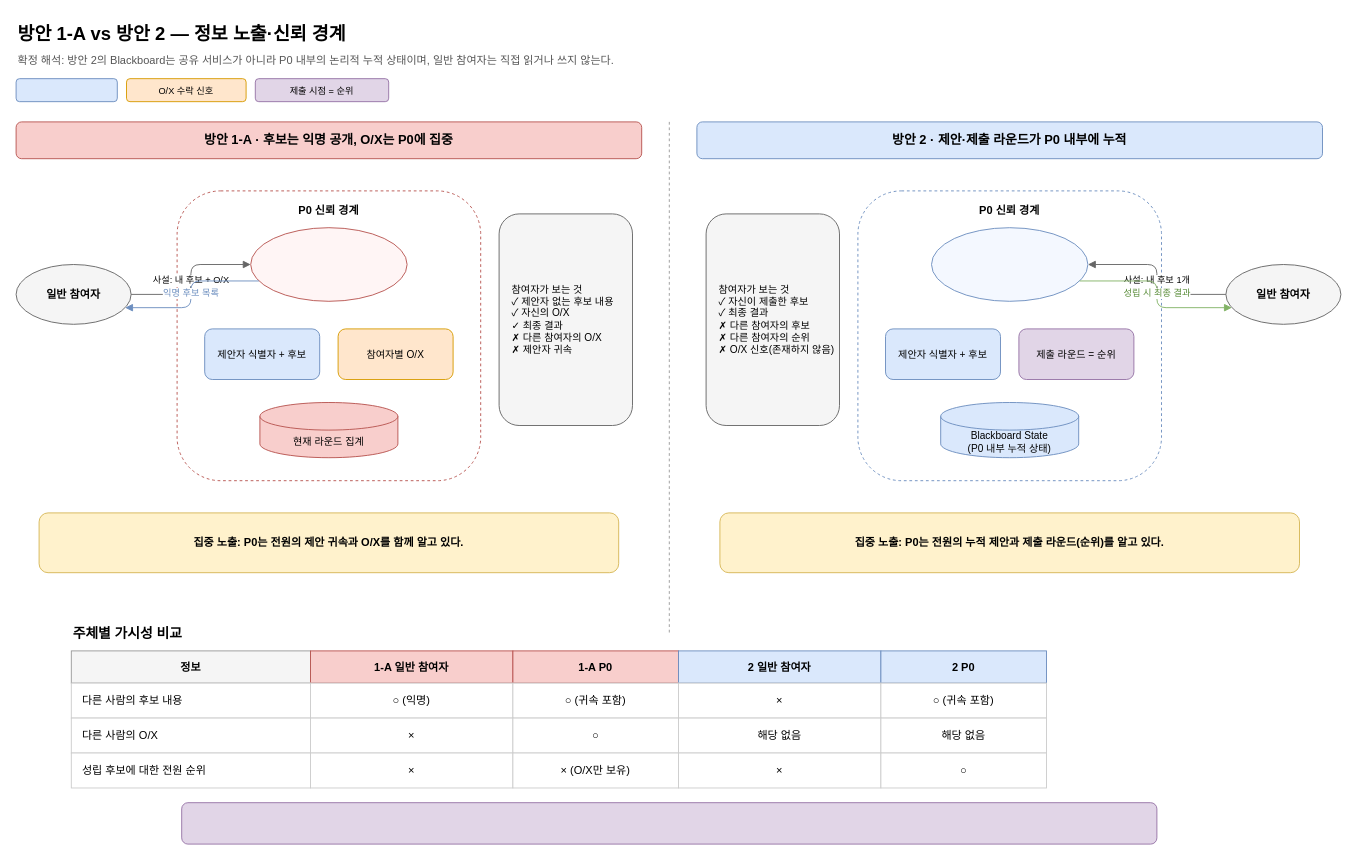
Some shapes in this 1357 by 860 pixel diagram are drawn without their labels. The box of each missing label's shape, as (x1, y1, x2, y2) in pixels:
P0 제안 수신·누적·교집합 판정: (931, 227, 1088, 301)
P0 제안 수신·익명화·투표 집계: (250, 227, 407, 301)
정보보호 포인트 │ 일반 참여자 간 전면 공개는 두 방안 모두 피하지만, P0에 집중되는 정보의 종류가 다르다.: (181, 802, 1157, 844)
후보 내용: (15, 78, 117, 102)
